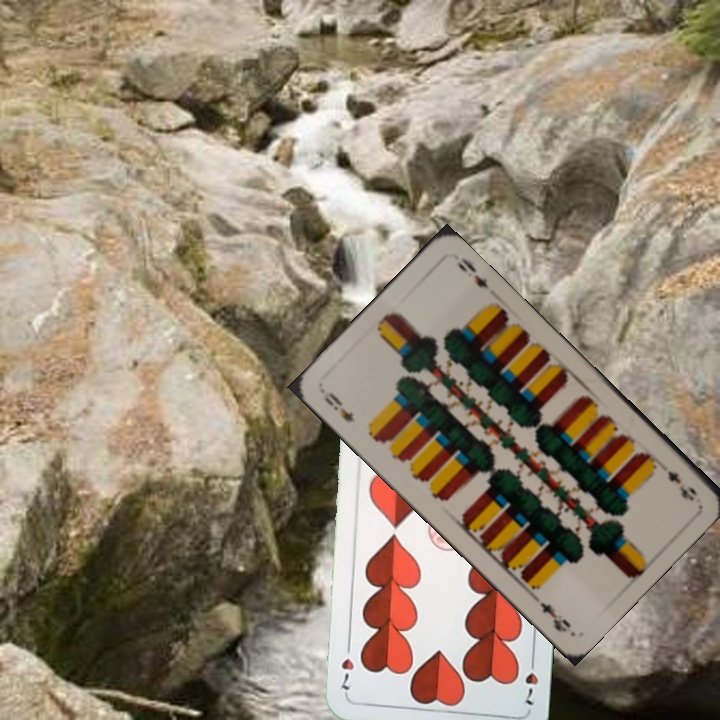E9: (663, 466, 700, 504), (320, 388, 357, 425)
H7: (521, 652, 541, 708)
